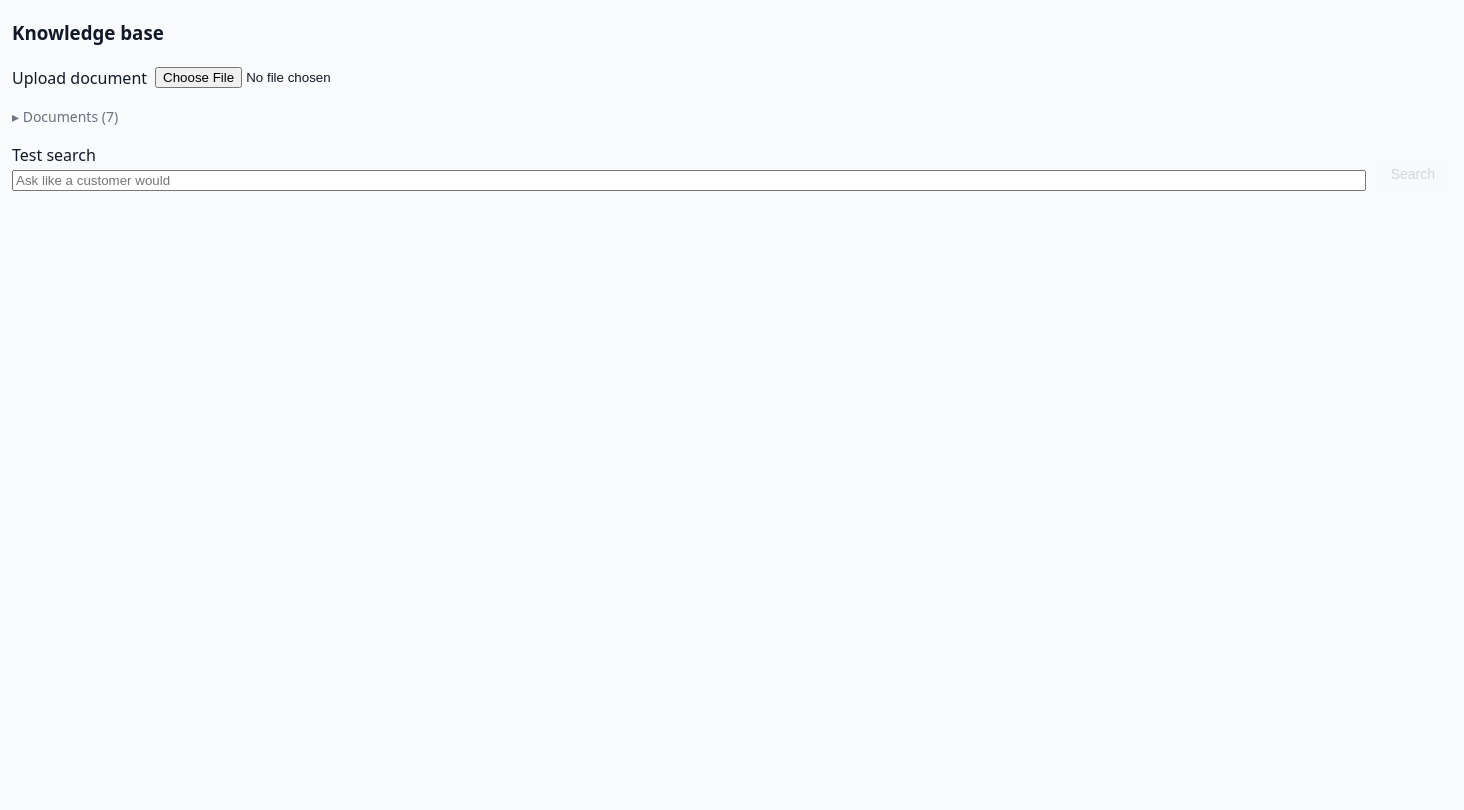
Scenario: KnowledgeBasePanel › folds the document list behind a count toggle, collapsed until asked for
Expected: the text "doc-1.md" is not shown
What coordinates should you click on to do the following:
click the button "Documents (7)"
I would click on:
 (65, 116)
Its box is [12,106,118,126].
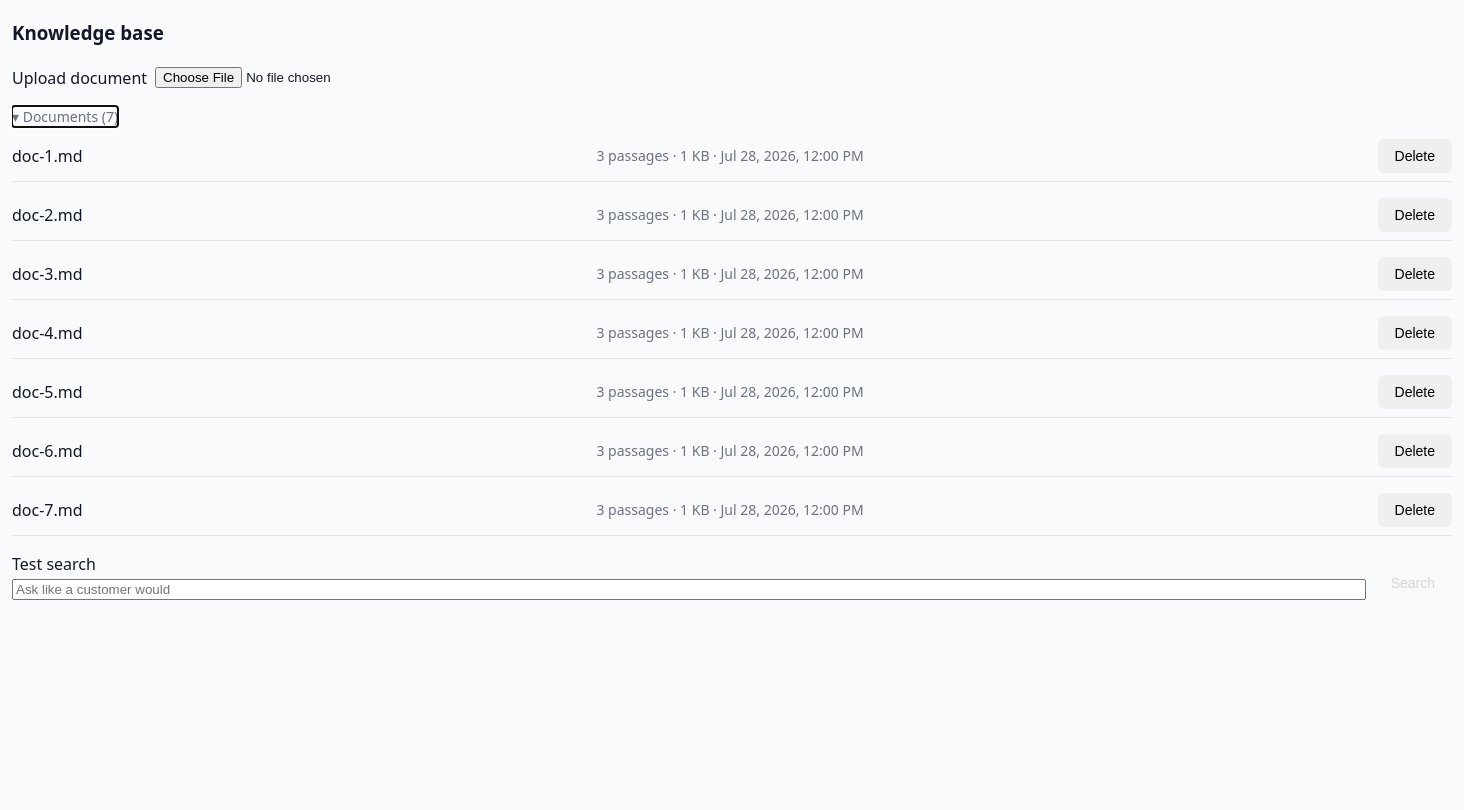
Result: the text "doc-1.md" is shown at [12,144,83,168]
Result: the text "doc-7.md" is shown at [12,498,83,522]
What coordinates should you click on to do the following:
click the button "Documents (7)"
I would click on:
 (65, 116)
Its box is [12,106,118,126].
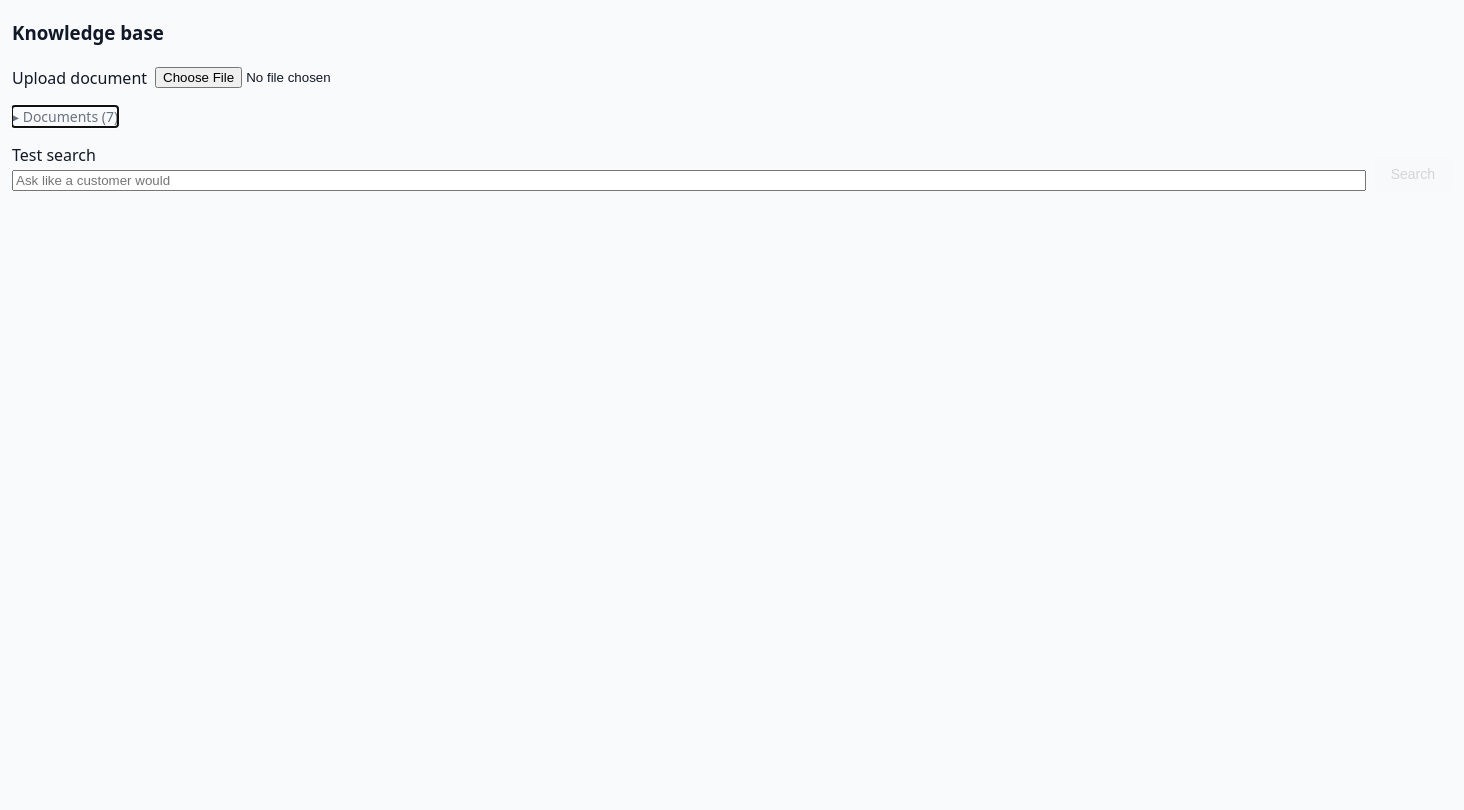
Result: the text "doc-1.md" is gone
